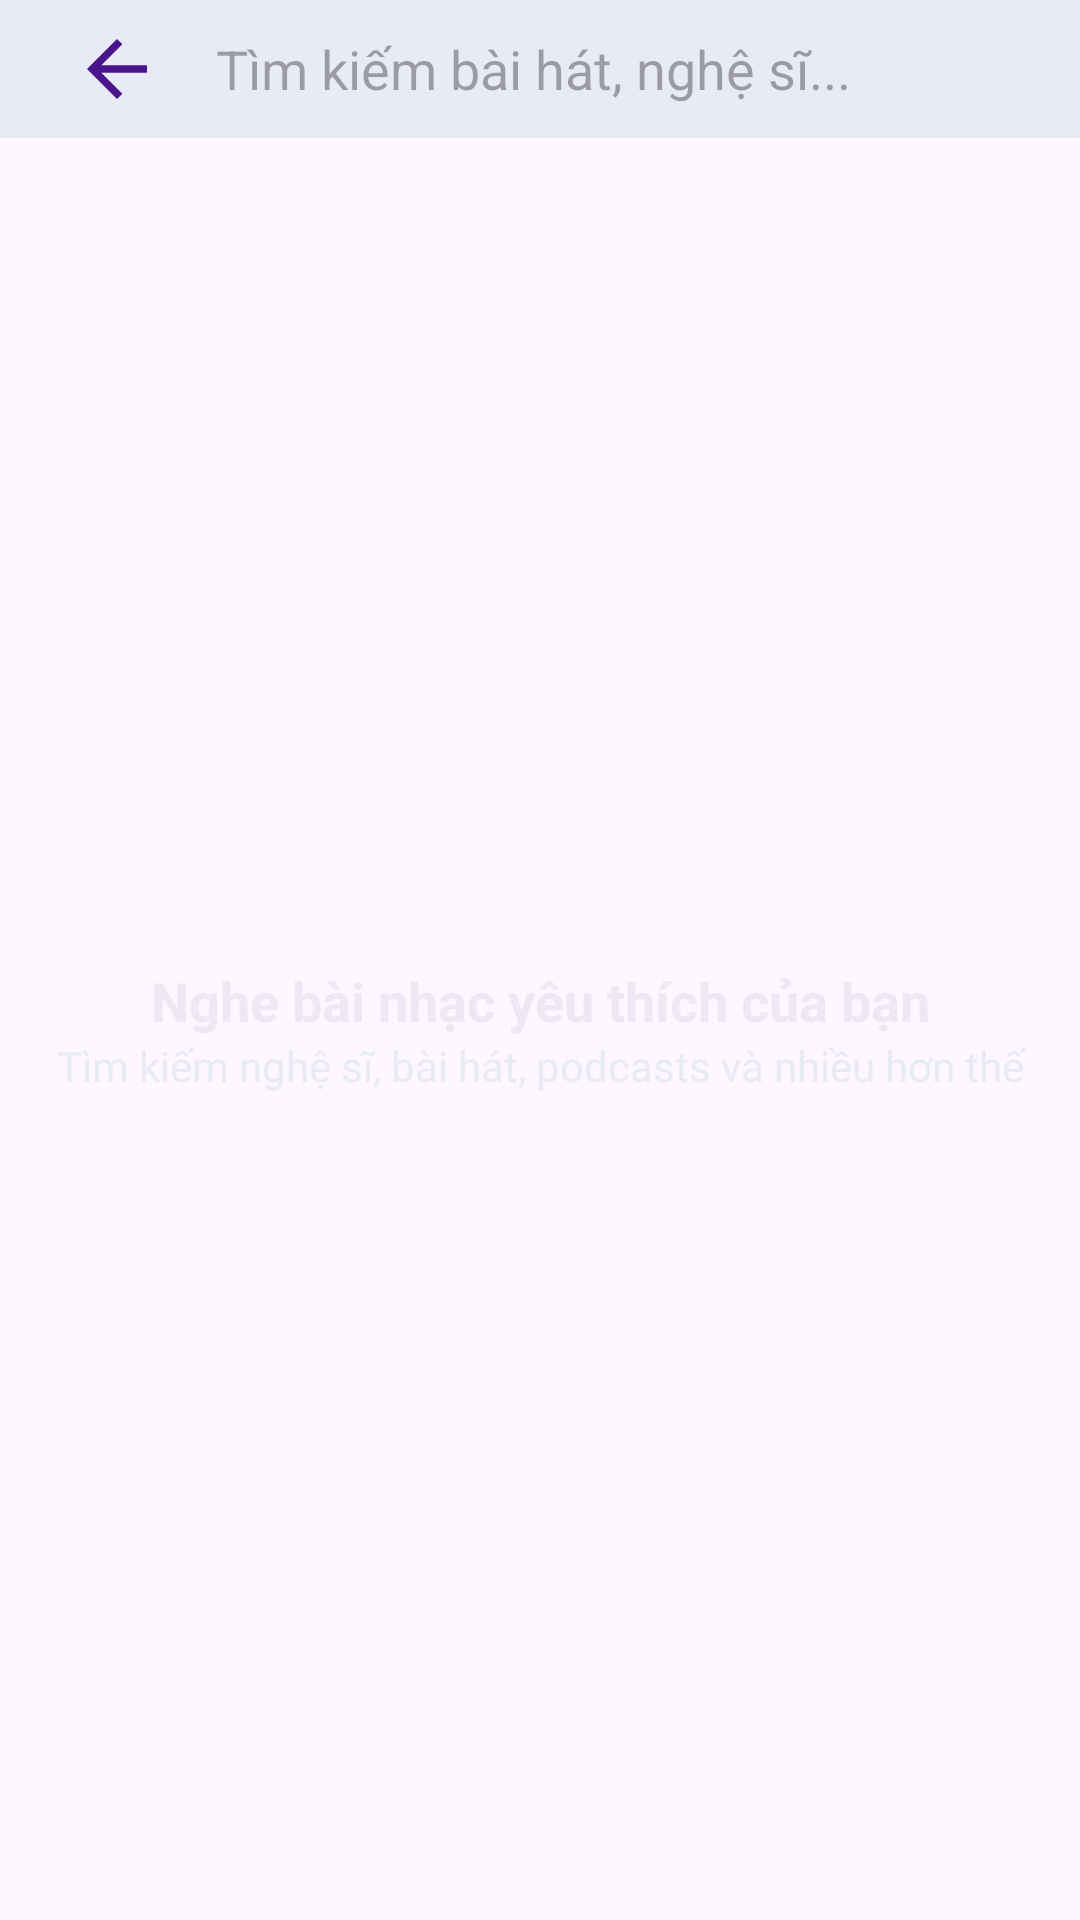

Where to tap for icons on this 1080×1920 app screen, as point (x, y):
arrow back: point (117, 69)
